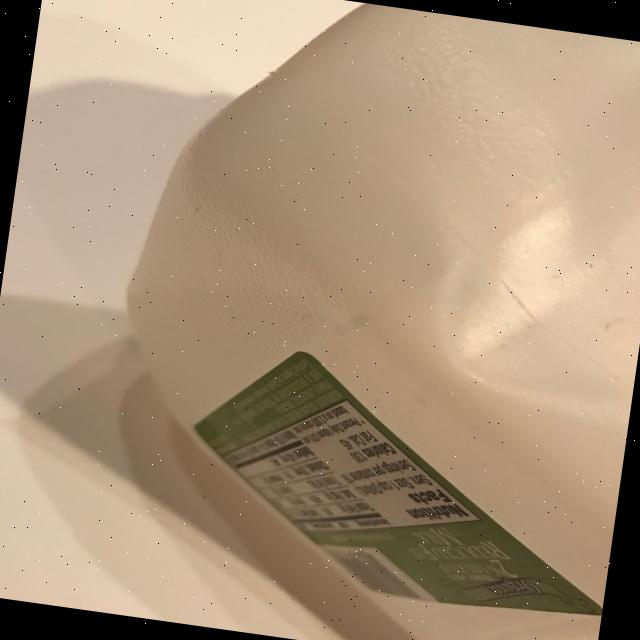plastic: (80, 0, 640, 640)
